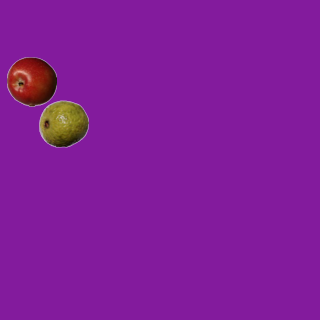Apple Braeburn: (6, 56, 56, 106)
Guava: (38, 98, 88, 148)
